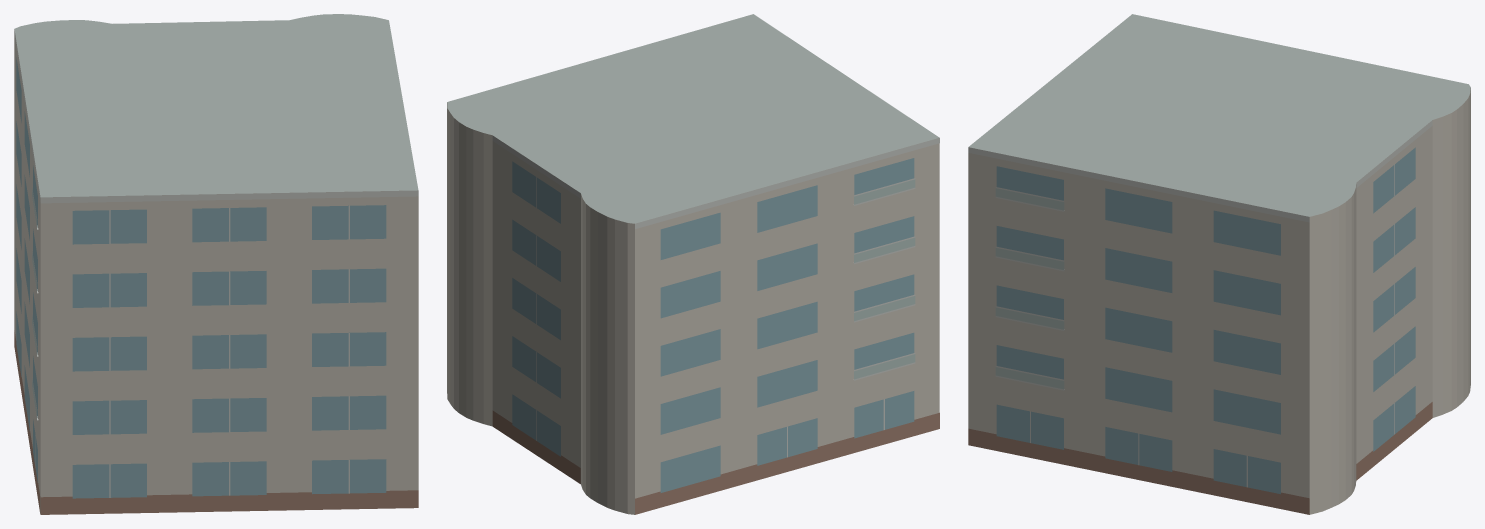
Rendered from survey-upis-32709512.glb.
3 renders of one model, left to right at view 1: azimuth 30°, elevation 25°; view 2: azimuth 150°, elevation 25°; view 3: azimuth 270°, elevation 25°, orthographic. The views are drawn at different scales.
Parts seen in each view (by area): view 1: survey-upis-32709512.tmp; view 2: survey-upis-32709512.tmp; view 3: survey-upis-32709512.tmp.
Part boxes in pixels (<box>): survey-upis-32709512.tmp: <box>14,14,418,514</box>; survey-upis-32709512.tmp: <box>447,14,939,514</box>; survey-upis-32709512.tmp: <box>968,14,1470,514</box>.
Bounding box in the file's own units: 18.84 × 12.9 × 19.72.
